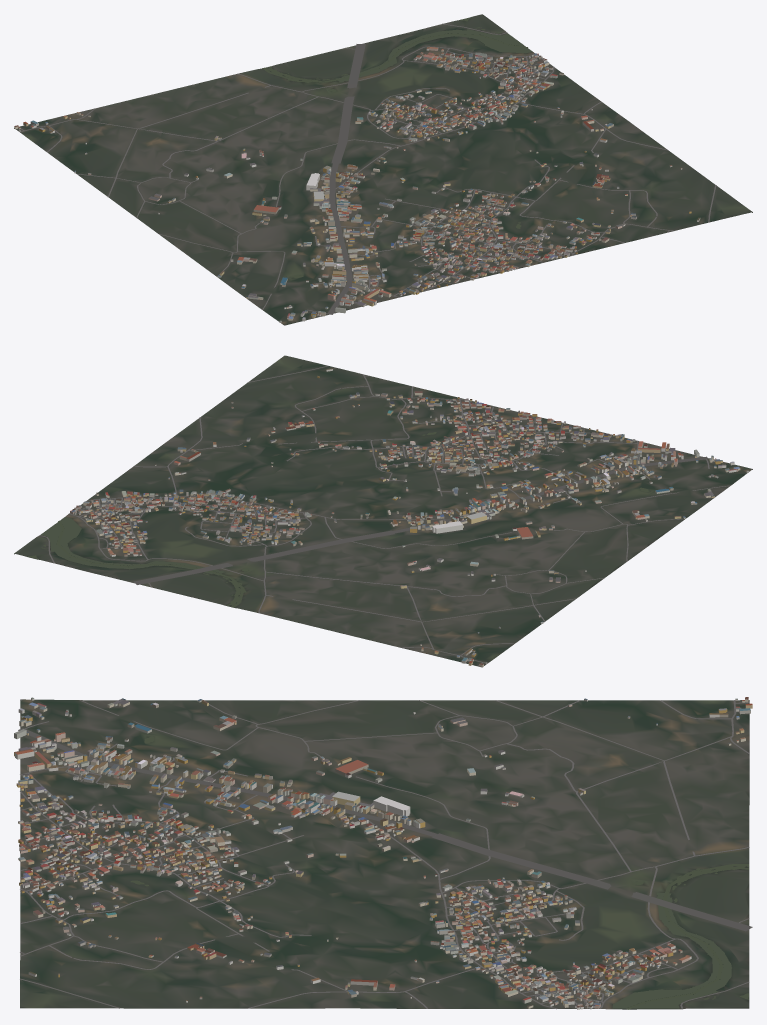
3 renders of one model, top to bottom at view 1: azimuth 30°, elevation 25°; view 2: azimuth 150°, elevation 25°; view 3: azimuth 270°, elevation 25°, orthographic. The views are drawn at different scales.
Visible parts, largest first — view 1: ground, buildings, roads, water; view 2: ground, buildings, roads, water; view 3: ground, buildings, roads, water.
Part boxes in pixels (x1=…): ground: x1=14, y1=14, x2=752, y2=325; buildings: x1=14, y1=47, x2=700, y2=322; roads: x1=19, y1=23, x2=716, y2=325; water: x1=262, y1=17, x2=532, y2=278; ground: x1=14, y1=355, x2=752, y2=667; buildings: x1=70, y1=368, x2=748, y2=667; roads: x1=39, y1=365, x2=752, y2=666; water: x1=28, y1=432, x2=649, y2=607; ground: x1=20, y1=699, x2=749, y2=1009; buildings: x1=14, y1=697, x2=752, y2=1009; roads: x1=18, y1=699, x2=752, y2=1009; water: x1=130, y1=736, x2=749, y2=1009.
Size of the model in its own units: 1406 by 21.13 by 1421.
